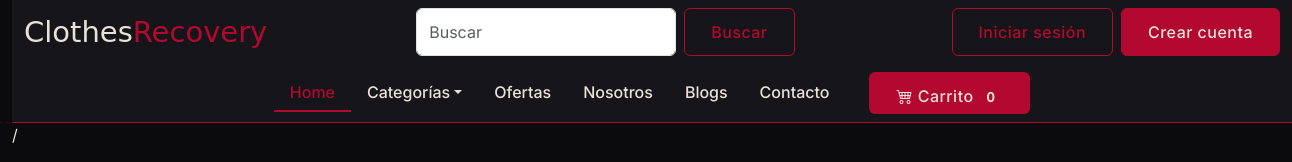
Navbar › el buscador navega a /productos con el texto en la URL
The image size is (1292, 162).
In the search field labelled "Buscar": (546, 32) [416,8,676,56], type "polera negra"
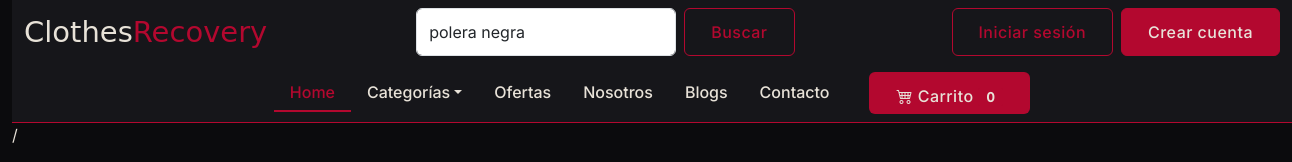
Submit the form, box [416,8,794,56]
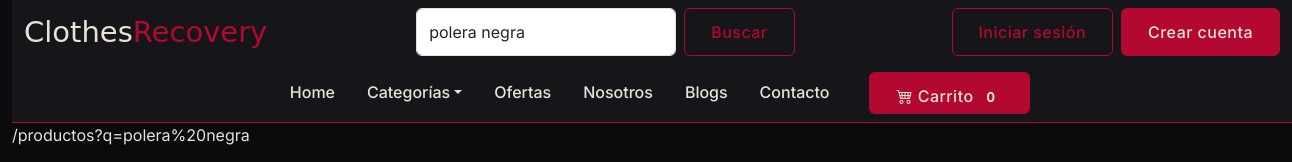
Expected: the text with test id "ruta" reads "/productos?q=polera%20negra", [12,125,250,145]
